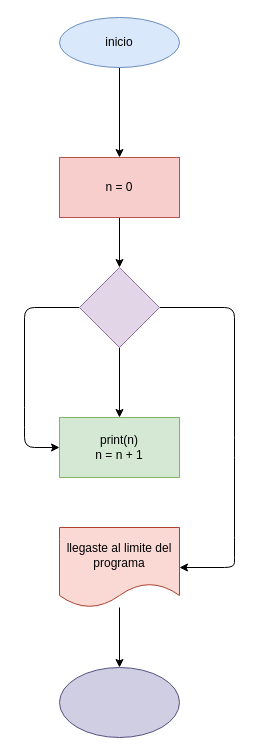
The diagram is 260 pixels wide and 755 high, and some of its shapes have lost their labels. Each missing label, with the centre of its shape:
fin: (119,702)
n<=5: (119,307)
